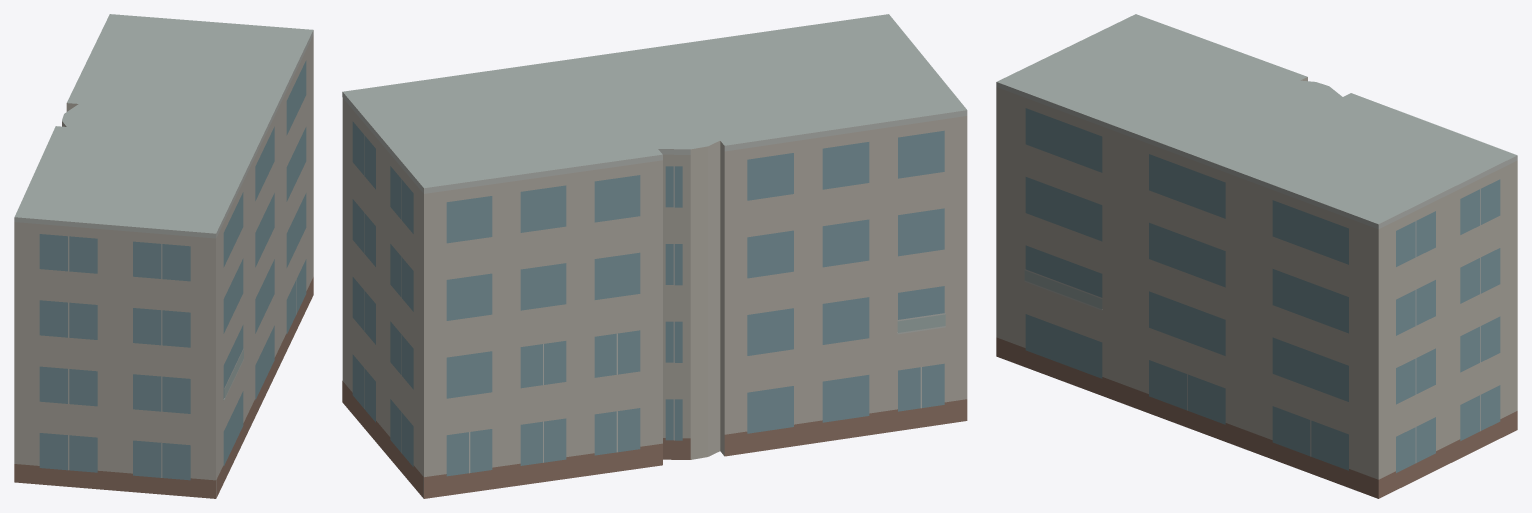
Rendered from survey-upis-32610192.glb.
3 views of the same model, side by side, from view 1: azimuth 30°, elevation 25°; view 2: azimuth 150°, elevation 25°; view 3: azimuth 270°, elevation 25° (orthographic). The views are drawn at different scales.
Visible parts, largest first — view 1: survey-upis-32610192.tmp; view 2: survey-upis-32610192.tmp; view 3: survey-upis-32610192.tmp.
Part boxes in pixels (x1,y1,x2,y2): survey-upis-32610192.tmp: (14, 14, 313, 498); survey-upis-32610192.tmp: (342, 14, 967, 498); survey-upis-32610192.tmp: (996, 14, 1517, 498).
Size of the model in its own units: 21.85 by 13.3 by 22.88.
